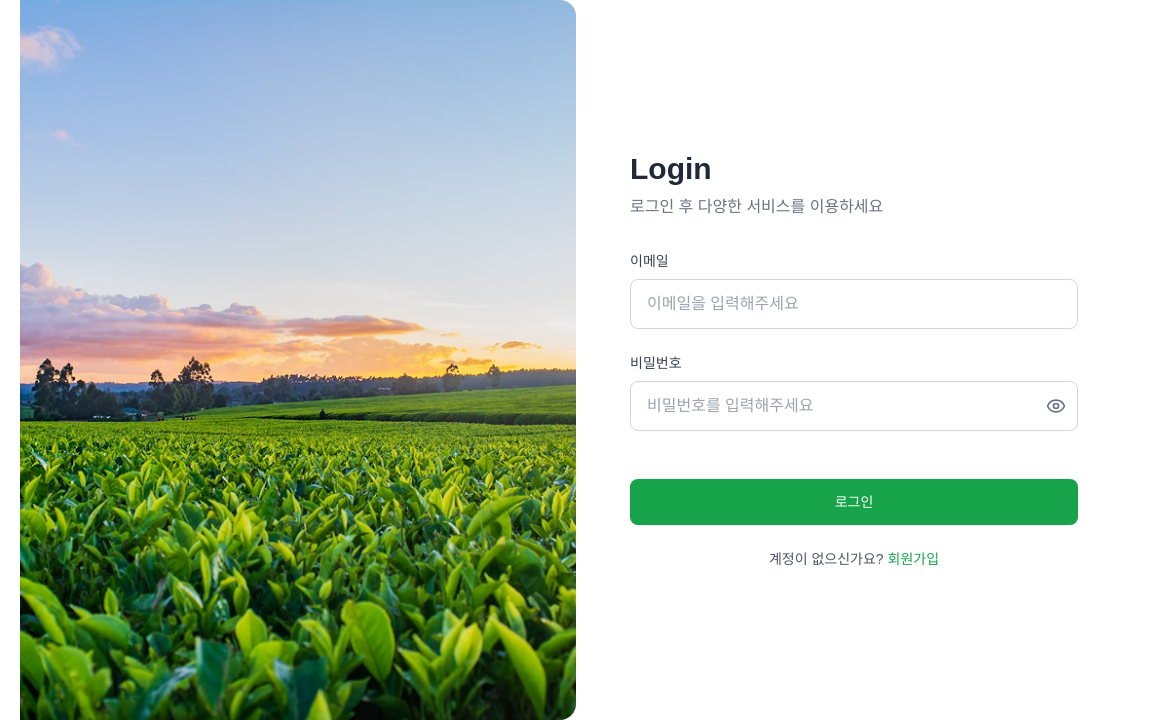
Test case: LoginPage › validates email and password inputs
# 이메일, 비밀번호 입력 없이 제출
Click the button "로그인".
click(854, 502)  # box x1=630 y1=479 x2=1078 y2=525
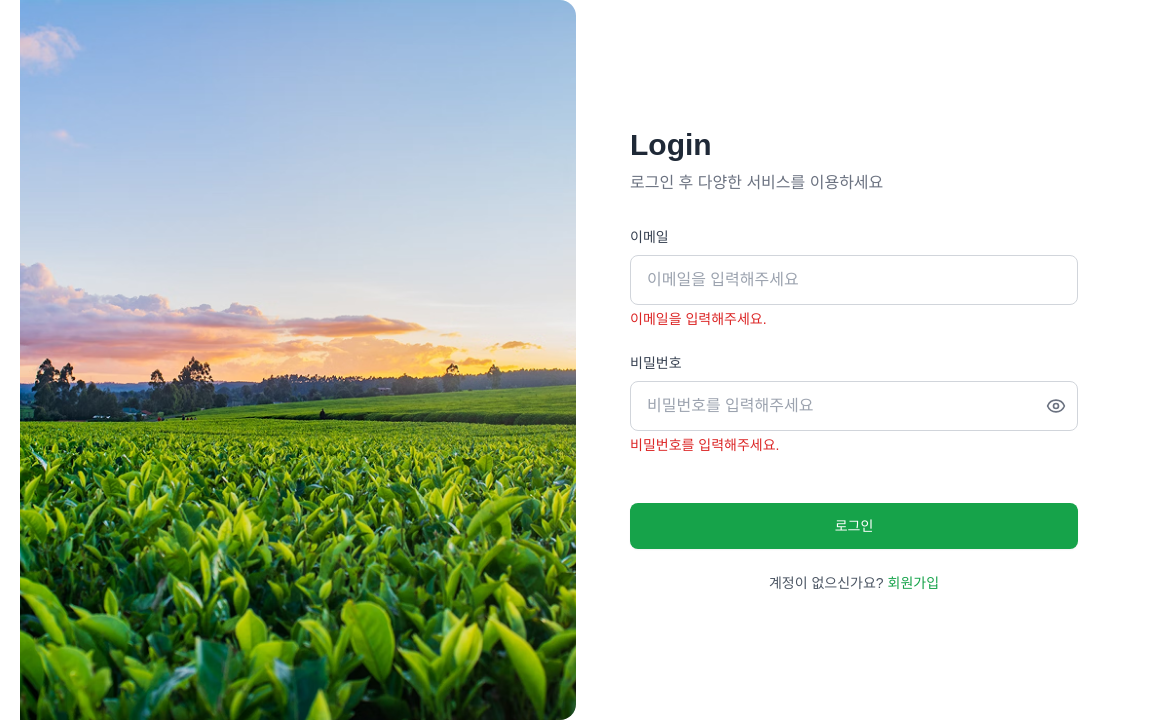
Expected: the text "이메일을 입력해주세요." is shown, x1=630 y1=311 x2=767 y2=327
Expected: the text "비밀번호를 입력해주세요." is shown, x1=630 y1=437 x2=780 y2=453
# 잘못된 이메일 형식 입력
Type "invalidEmail" into the field labelled "이메일".
click(854, 280); type("invalidEmail")  # box x1=630 y1=255 x2=1078 y2=305
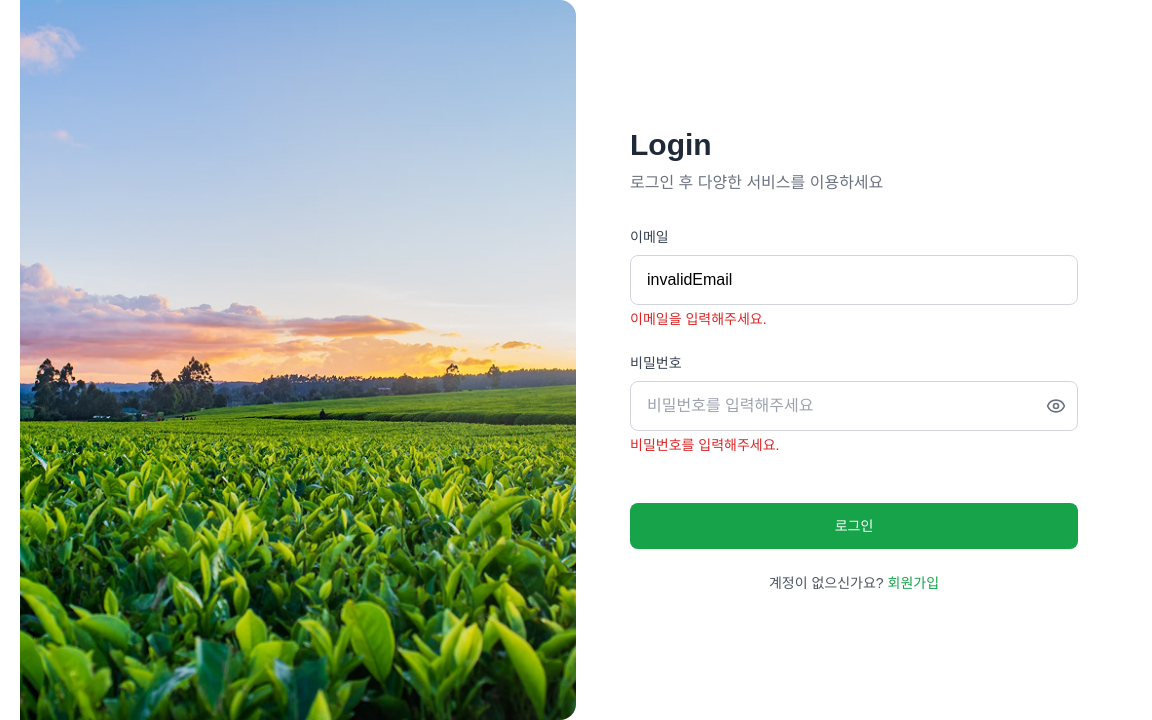
Click the button "로그인".
click(854, 526)  # box x1=630 y1=503 x2=1078 y2=549
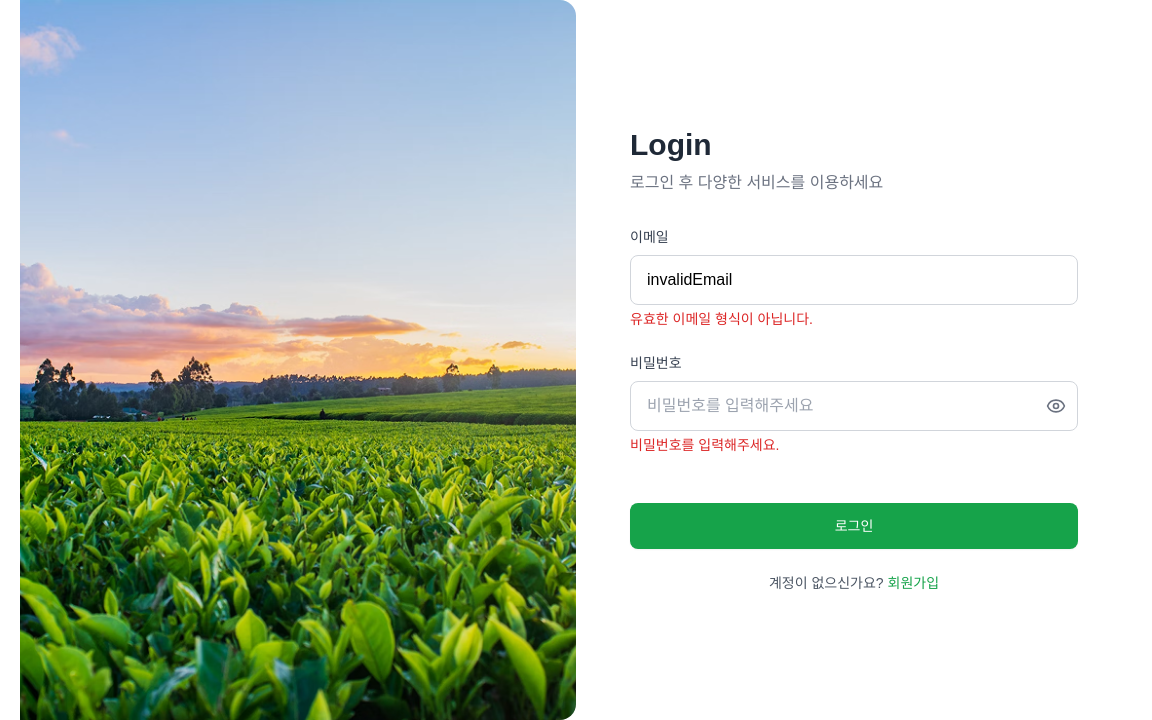
Expected: the text "유효한 이메일 형식이 아닙니다." is shown, x1=630 y1=311 x2=813 y2=327
